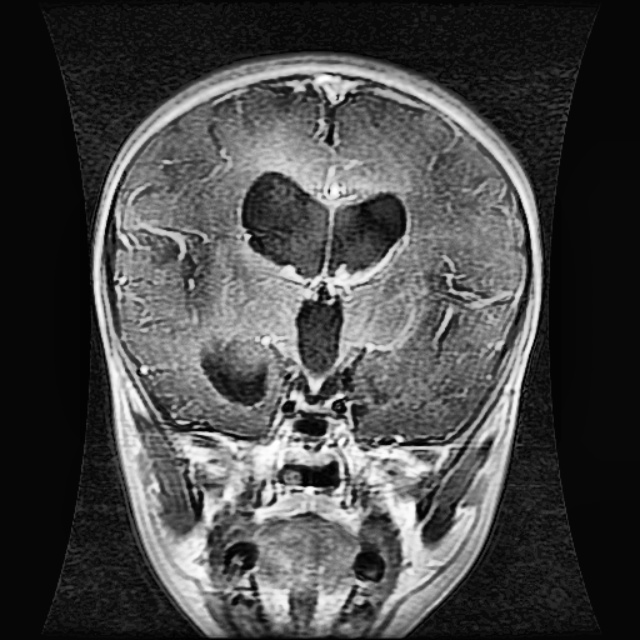Meningioma: (193, 335, 287, 409)
